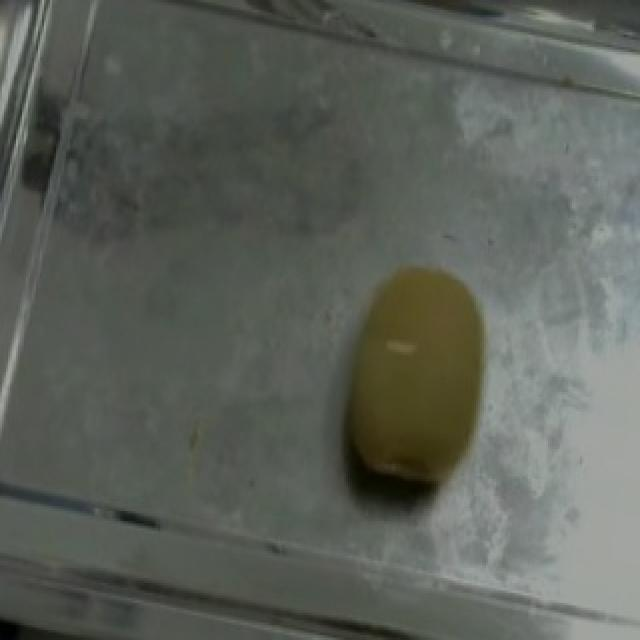Fruit: (308, 238, 524, 524)
